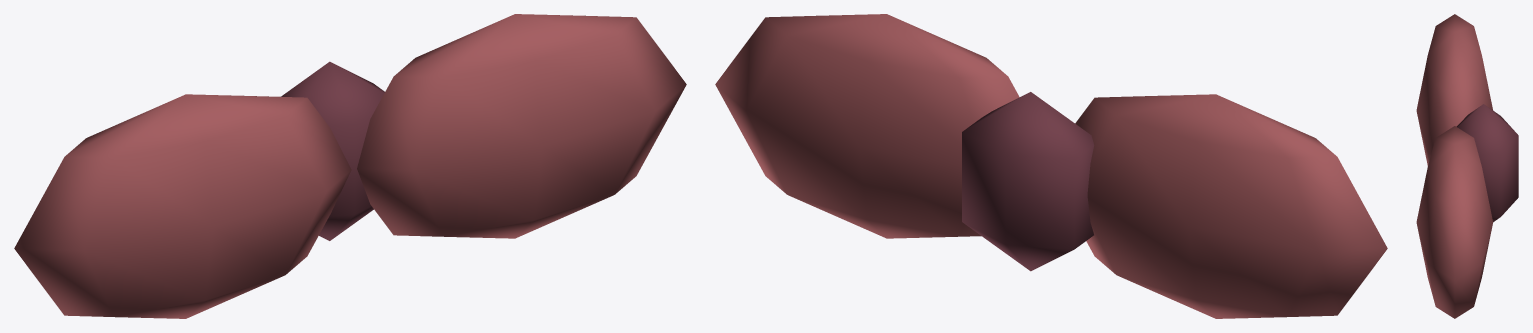
The model's file is wear_bowtie.glb.
The picture shows the model from 3 angles, left to right: view 1: azimuth 30°, elevation 25°; view 2: azimuth 150°, elevation 25°; view 3: azimuth 270°, elevation 25°; orthographic projection. The views are drawn at different scales.
Parts seen in each view (by area): view 1: Item; view 2: Item; view 3: Item.
Part boxes in pixels (bbox=[...]): Item: bbox=[14, 14, 686, 318]; Item: bbox=[715, 14, 1387, 318]; Item: bbox=[1416, 14, 1518, 318].
Size of the model in its own units: 0.282 by 0.09 by 0.0532.
